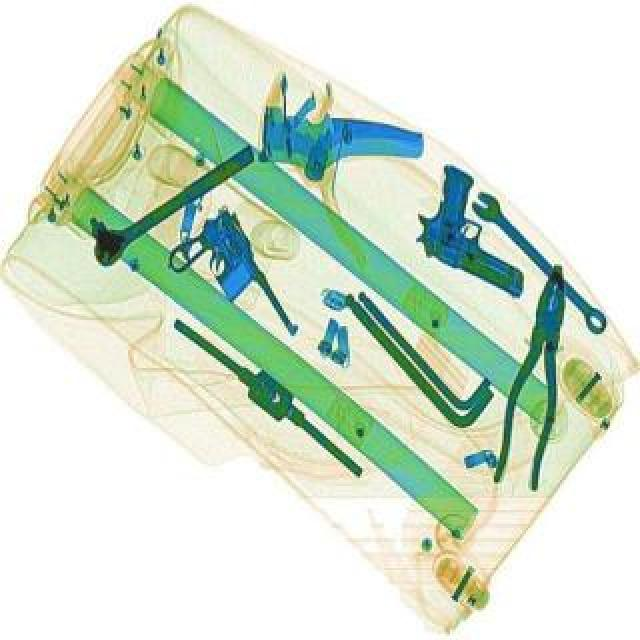gun: (152, 200, 308, 366), (402, 160, 564, 298)
scissors: (464, 186, 618, 338)
wrench: (490, 260, 584, 488)
